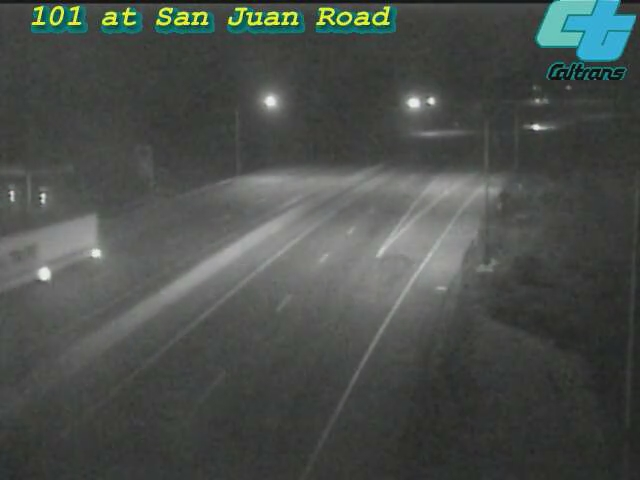vehicle: (1, 218, 76, 298), (511, 103, 561, 153)
